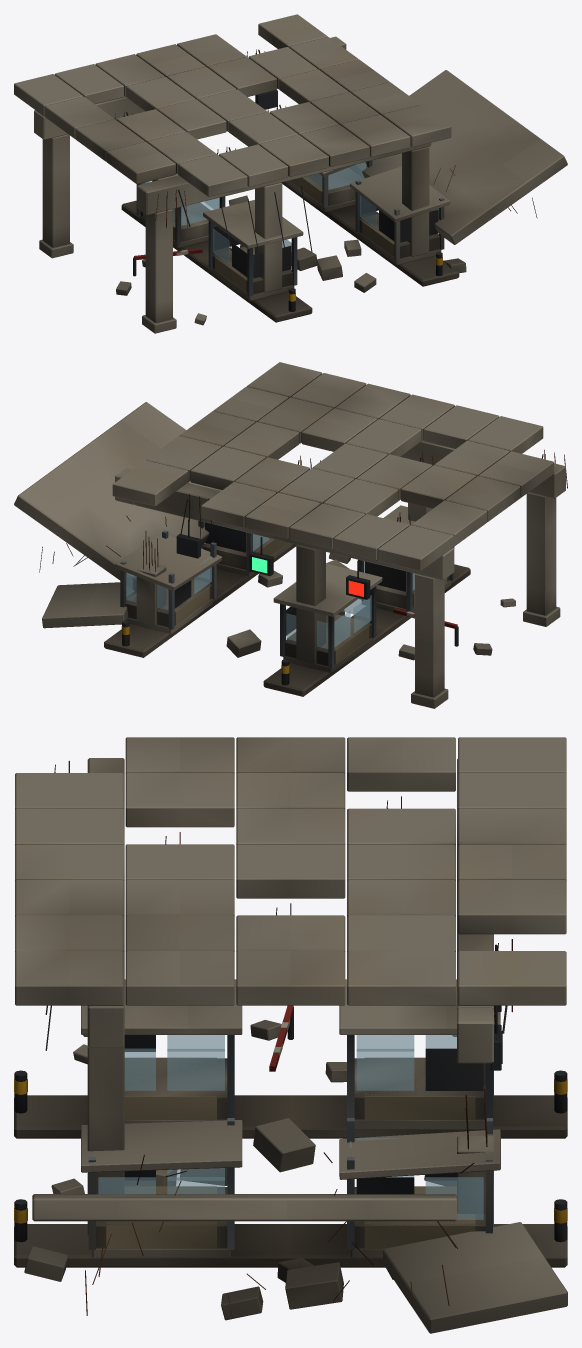
File: toll_booth_ruined.glb
3 renders of one model, top to bottom at view 1: azimuth 30°, elevation 25°; view 2: azimuth 150°, elevation 25°; view 3: azimuth 270°, elevation 25°, orthographic. The views are drawn at different scales.
Parts seen in each view (by area): view 1: concrete, concrete_dark, metal_dark, glass, steel_beam, paint2; view 2: concrete, concrete_dark, metal_dark, glass, steel_beam, paint2, rebar; view 3: concrete, concrete_dark, glass, paint2, metal_dark, steel_beam, rebar, hazard.
Part boxes in pixels (box(x1,y1,x2,y2)): concrete: box(14, 14, 567, 333); concrete_dark: box(121, 181, 459, 322); metal_dark: box(126, 49, 442, 311); glass: box(141, 162, 438, 265); steel_beam: box(136, 160, 444, 296); paint2: box(143, 168, 400, 292); concrete: box(14, 362, 565, 708); concrete_dark: box(104, 543, 470, 696); metal_dark: box(122, 454, 543, 685); glass: box(126, 523, 414, 648); steel_beam: box(120, 520, 454, 668); paint2: box(127, 532, 447, 664); rebar: box(39, 449, 567, 572); concrete: box(15, 737, 567, 1333); concrete_dark: box(14, 1095, 567, 1267); glass: box(98, 1035, 483, 1219); paint2: box(106, 1057, 475, 1248); metal_dark: box(14, 944, 567, 1242); steel_beam: box(88, 1035, 492, 1249); rebar: box(54, 760, 512, 1316); hazard: box(14, 1019, 567, 1223).
Size of what is drawn, in the model's own units: 18.24 by 6.71 by 12.01.
